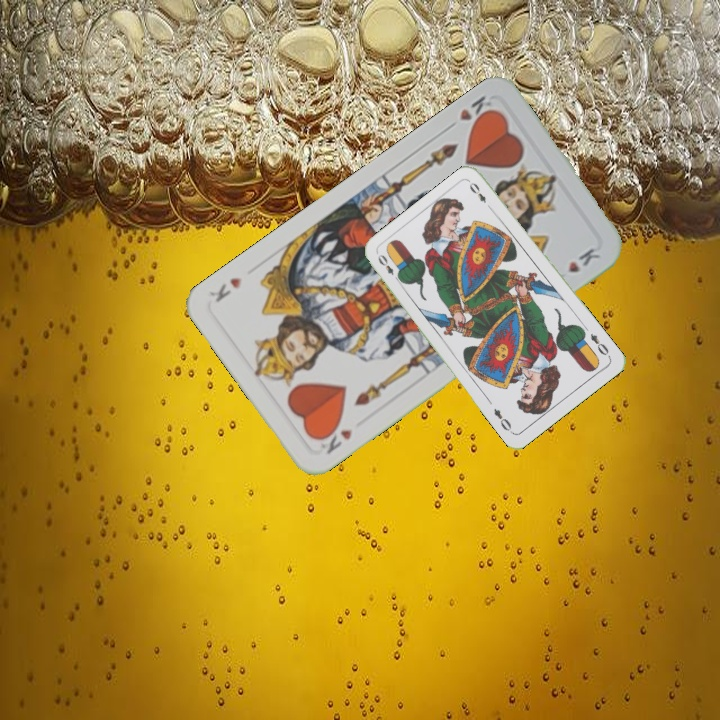EO: (373, 250, 403, 285), (586, 329, 613, 360)
HK: (442, 91, 500, 133), (314, 419, 355, 457)
